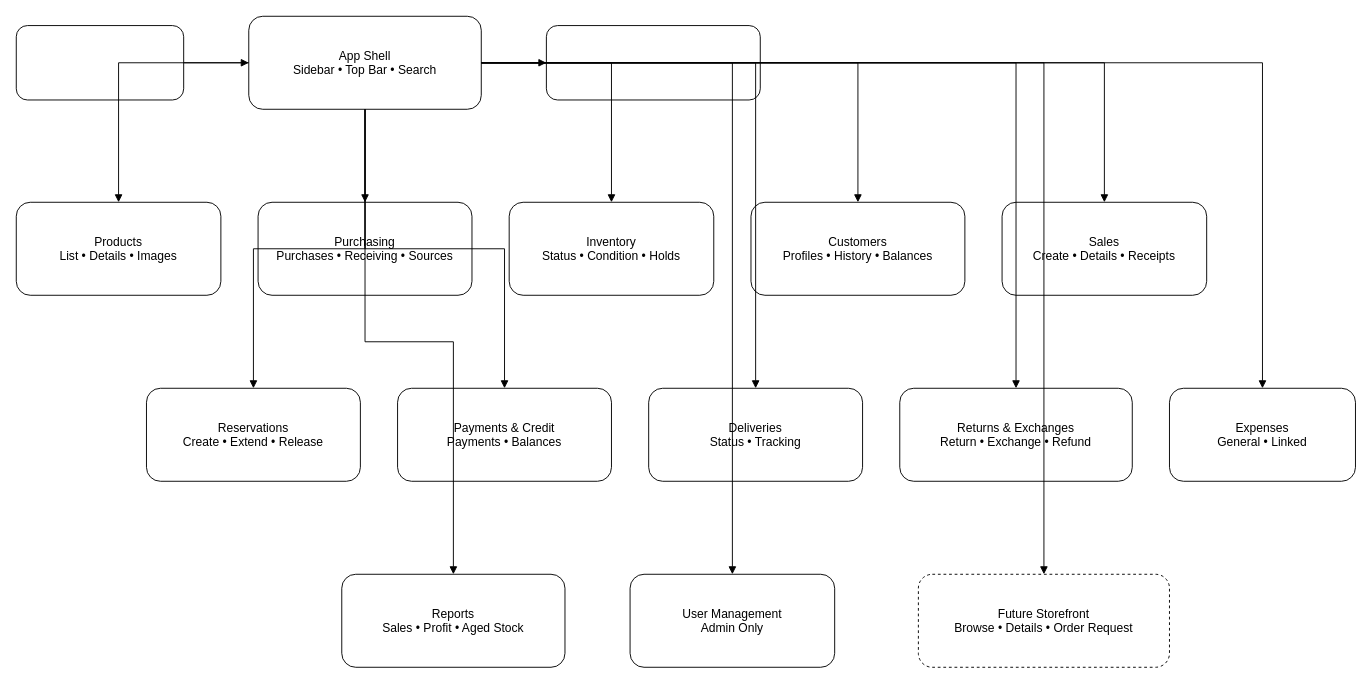
This 1372x684 diagram has some shape labels left out. The shapes that lost their labels are listed below. From the top down, each one's centre as x and y in pixels, then its label:
the point at 99,62: Login Internal Users
the point at 652,62: Dashboard KPIs • Alerts • Recent Activity
